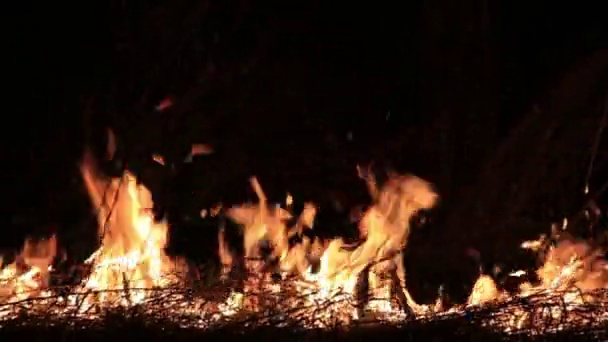fire: (227, 175, 425, 316), (75, 170, 168, 313), (520, 241, 608, 313), (1, 244, 53, 308), (467, 277, 496, 307)
